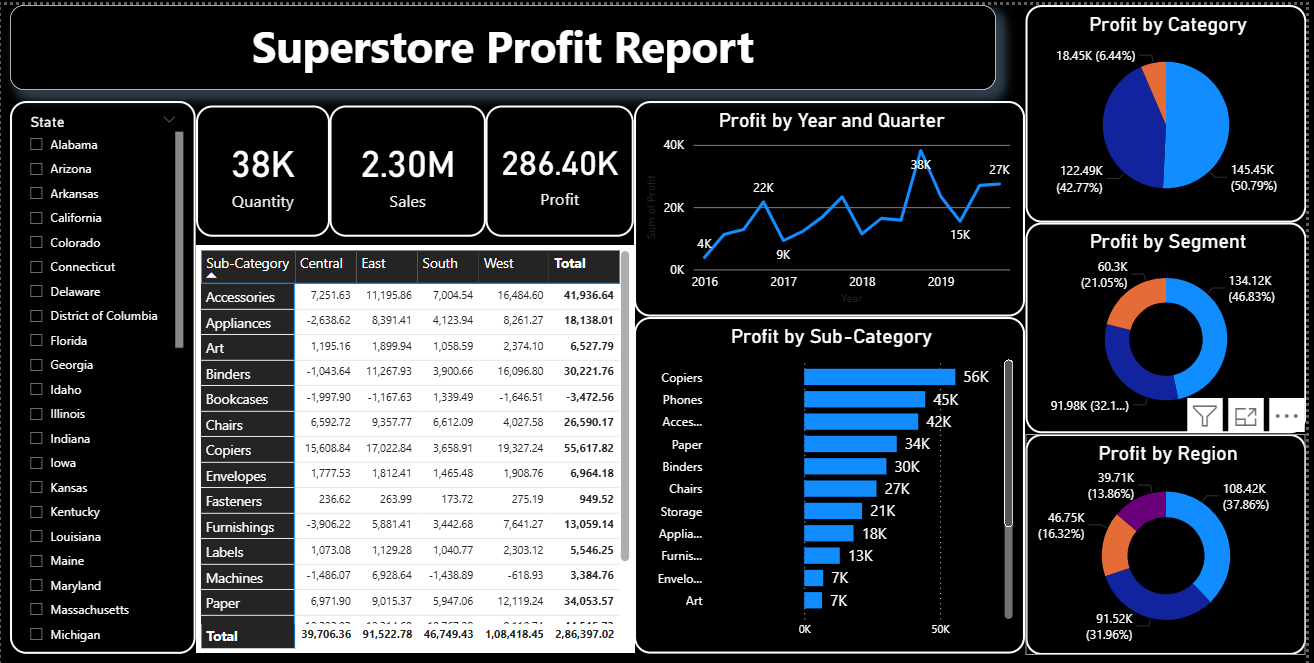

What the dashboard file says about the page in this screenshot:
{"tool":"powerbi","page":{"name":"Page 1","canvas":[1280,720],"ordinal":0},"visuals":[{"type":"textbox","box":[8.9,0,966.7,83.3],"z":0},{"type":"pieChart","fields":{"Y":["Sum(Orders.Profit)"],"Category":["Orders.Category"]},"box":[1004.4,0,275.6,213.3],"z":1000},{"type":"donutChart","fields":{"Y":["Sum(Orders.Profit)"],"Category":["Orders.Segment"]},"box":[1004.4,213.3,275.6,206.7],"z":2000},{"type":"donutChart","fields":{"Y":["Sum(Orders.Profit)"],"Category":["Orders.Region"]},"box":[1004.4,420,275.6,216.7],"z":3000},{"type":"barChart","title":"Profit by Sub-Category","fields":{"Y":["Sum(Orders.Profit)"],"Category":["Orders.Sub-Category"]},"box":[621.1,305.6,383.3,330],"z":4000},{"type":"lineChart","title":"Profit by Year and Quarter","fields":{"Category":["Orders.Order Date.Variation.Date Hierarchy.Year","Orders.Order Date.Variation.Date Hierarchy.Quarter","Orders.Order Date.Variation.Date Hierarchy.Month","Orders.Order Date.Variation.Date Hierarchy.Day"],"Y":["Sum(Orders.Profit)"]},"box":[621.1,94.4,383.3,211.1],"z":5000},{"type":"slicer","fields":{"Values":["Orders.State"]},"box":[8.9,94.4,182.2,542.2],"z":6000},{"type":"pivotTable","fields":{"Rows":["Orders.Sub-Category"],"Columns":["Orders.Region"],"Values":["Sum(Orders.Profit)"]},"box":[191.1,235.6,430,400],"z":7000},{"type":"card","fields":{"Values":["Sum(Orders.Quantity)"]},"box":[191.1,98.9,131.1,128.9],"z":8000},{"type":"card","fields":{"Values":["Sum(Orders.Sales)"]},"box":[322.2,98.9,153.3,128.9],"z":9000},{"type":"card","fields":{"Values":["Sum(Orders.Profit)"]},"box":[475.6,98.9,145.6,128.9],"z":10000}]}

Visuals, with their boxes on the page's 1280x720 design canvas (x1, y1, x2, y2). These are canvas units, not pixel positions in the 1314x663 screenshot, which may show the page scaled, cropped or inside an application window:
textbox: <region>9, 0, 976, 83</region>
pieChart - Sum(Orders.Profit) x Orders.Category: <region>1004, 0, 1280, 213</region>
donutChart - Sum(Orders.Profit) x Orders.Segment: <region>1004, 213, 1280, 420</region>
donutChart - Sum(Orders.Profit) x Orders.Region: <region>1004, 420, 1280, 637</region>
"Profit by Sub-Category" barChart: <region>621, 306, 1004, 636</region>
"Profit by Year and Quarter" lineChart: <region>621, 94, 1004, 306</region>
slicer - Orders.State: <region>9, 94, 191, 637</region>
pivotTable - Orders.Sub-Category x Orders.Region: <region>191, 236, 621, 636</region>
card - Sum(Orders.Quantity): <region>191, 99, 322, 228</region>
card - Sum(Orders.Sales): <region>322, 99, 476, 228</region>
card - Sum(Orders.Profit): <region>476, 99, 621, 228</region>
